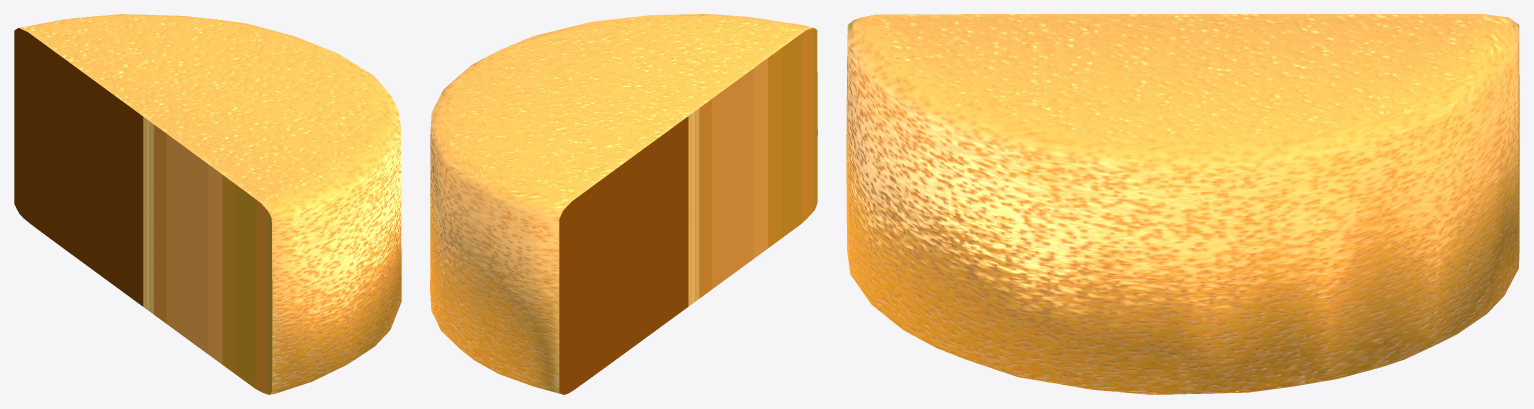
File: CheeseHalf.fbx
3 views of the same model, side by side, from view 1: azimuth 30°, elevation 25°; view 2: azimuth 150°, elevation 25°; view 3: azimuth 270°, elevation 25° (orthographic). The views are drawn at different scales.
Parts seen in each view (by area): view 1: Cylinder.003; view 2: Cylinder.003; view 3: Cylinder.003.
Part boxes in pixels (left/top/right/bottom): Cylinder.003: left=14, top=14, right=401, bottom=394; Cylinder.003: left=430, top=14, right=817, bottom=394; Cylinder.003: left=846, top=14, right=1519, bottom=394.
Bounding box in the file's own units: 367 × 299 × 734.
